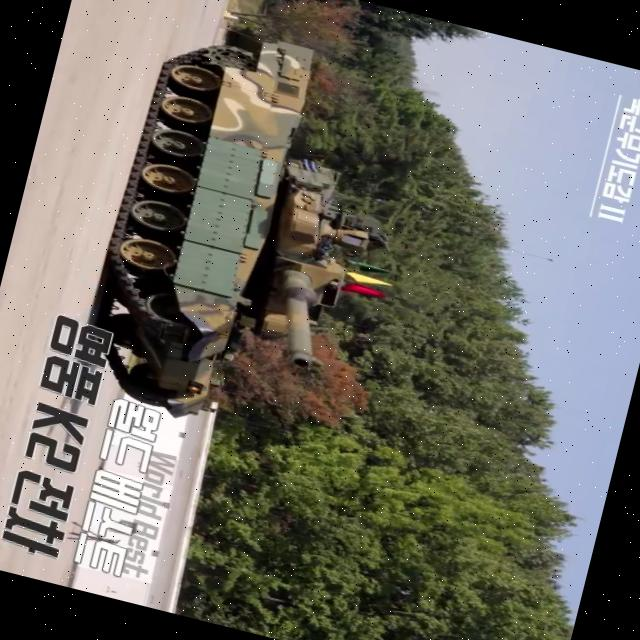korea tank: (66, 11, 431, 461)
